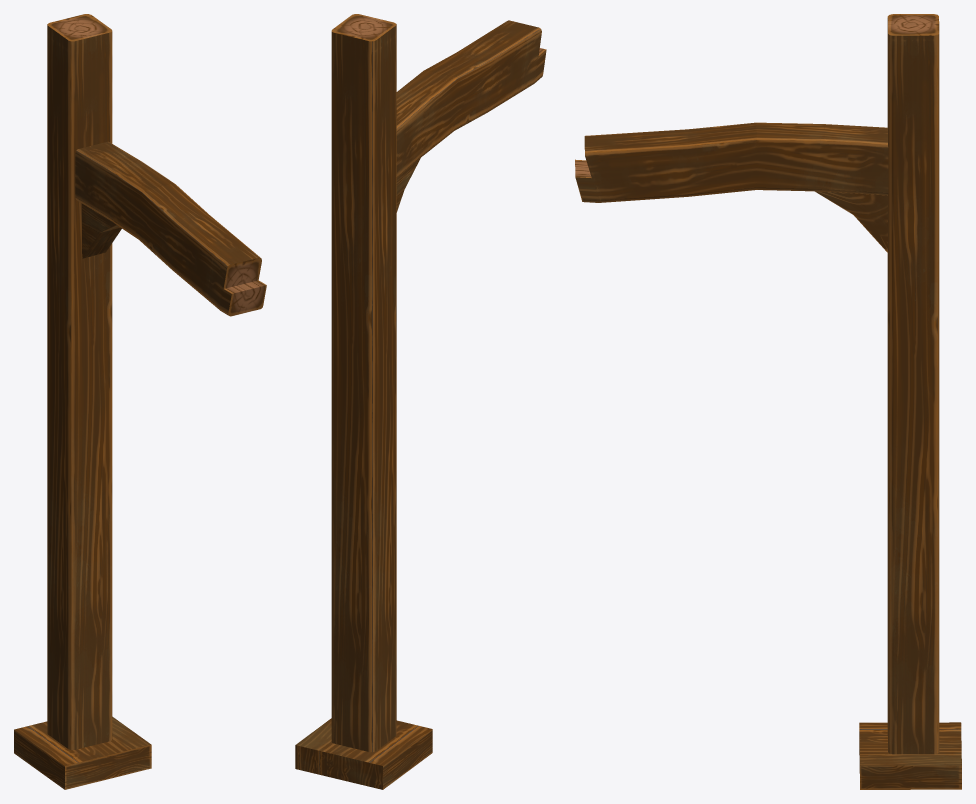
3 renders of one model, left to right at view 1: azimuth 30°, elevation 25°; view 2: azimuth 150°, elevation 25°; view 3: azimuth 270°, elevation 25°, orthographic.
Visible parts, largest first — view 1: Cube.1925; view 2: Cube.1925; view 3: Cube.1925.
Part boxes in pixels (x1,y1,x2,y2): Cube.1925: (14,14,266,789); Cube.1925: (295,14,546,789); Cube.1925: (575,14,961,789).
Size of the model in its own units: 71.88 by 574 by 271.
1 material, 1 textured.
